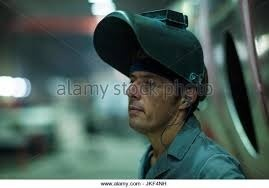person without safety: (113, 4, 251, 179)
